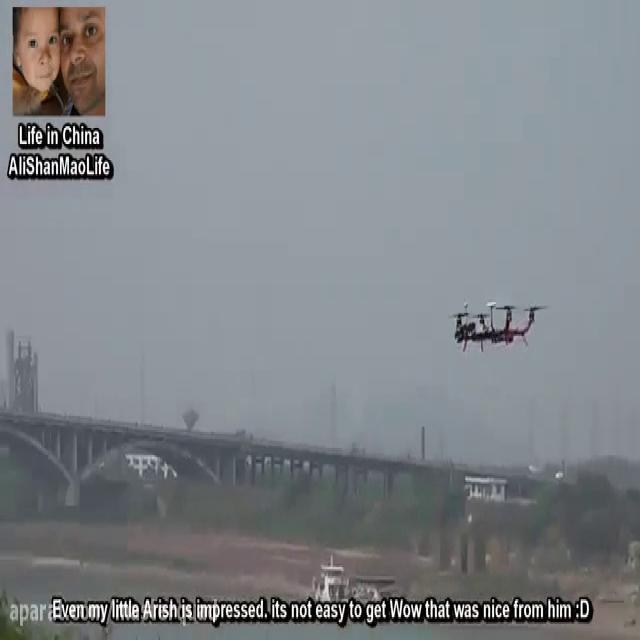drone: (445, 295, 548, 354)
